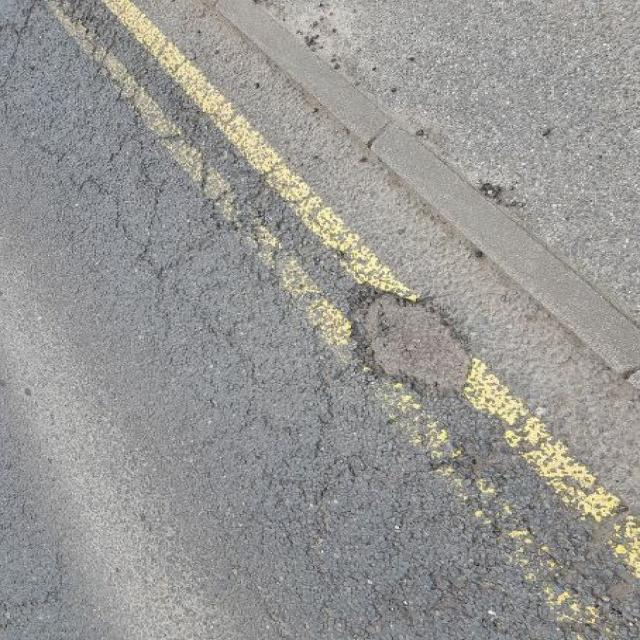Pothole: (339, 278, 482, 399)
